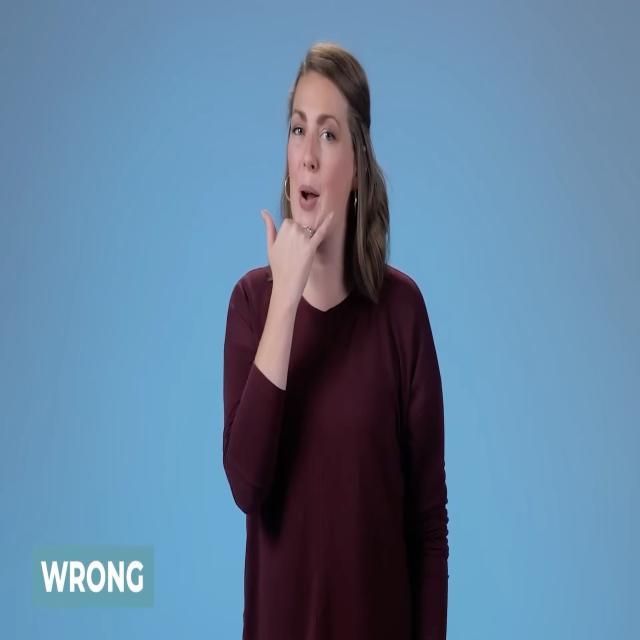wrong: (250, 192, 344, 306)
